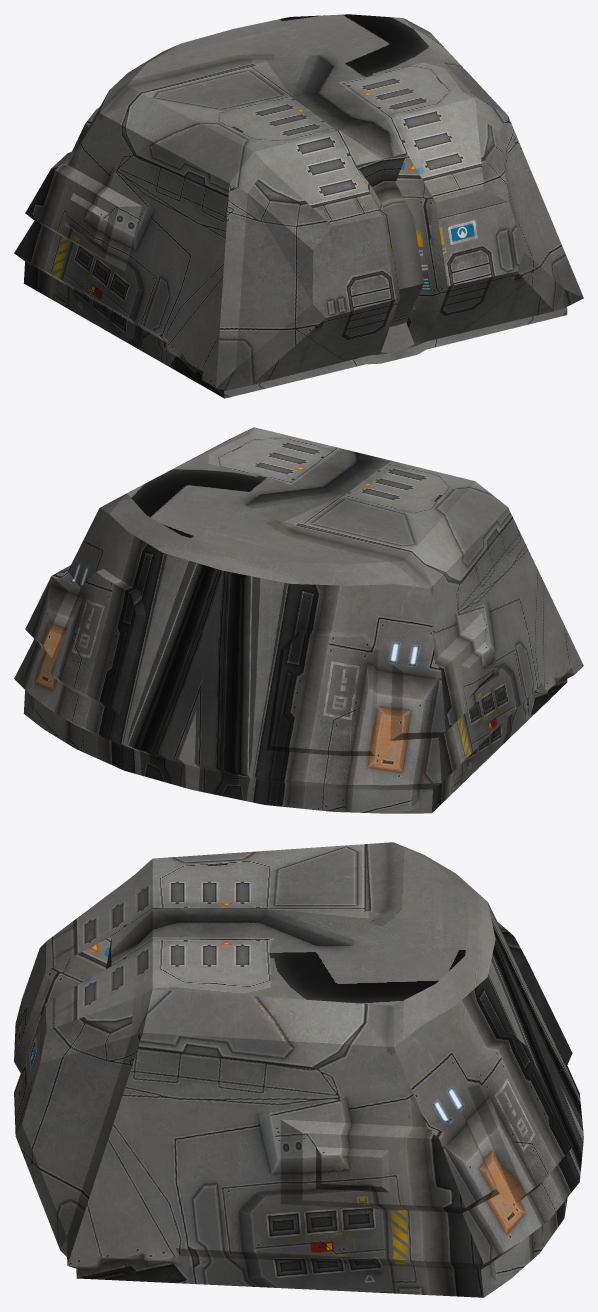
File: heavycruiserion.1-0.obj
3 views of the same model, one above another, from view 1: azimuth 30°, elevation 25°; view 2: azimuth 150°, elevation 25°; view 3: azimuth 270°, elevation 25° (orthographic). The views are drawn at different scales.
Parts seen in each view (by area): view 1: Tai_HeavyCruiserGun; view 2: Tai_HeavyCruiserGun; view 3: Tai_HeavyCruiserGun.
Boxes of the visible parts, bbox=[...] form: Tai_HeavyCruiserGun: bbox=[14, 14, 583, 398]; Tai_HeavyCruiserGun: bbox=[14, 427, 583, 813]; Tai_HeavyCruiserGun: bbox=[14, 842, 583, 1297].
Bounding box in the file's own units: 38.17 × 17.84 × 36.39.
1 material, 1 textured.
